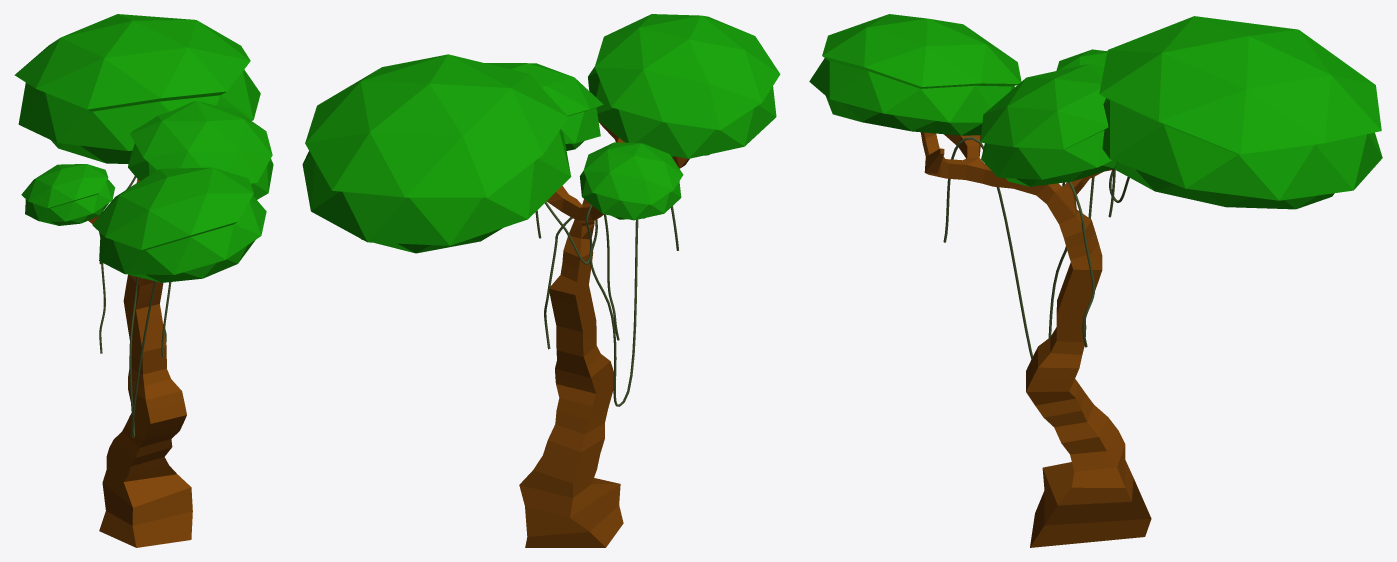
Rendered from big_tree_1-1 1.fbx.
3 views of the same model, side by side, from view 1: azimuth 30°, elevation 25°; view 2: azimuth 150°, elevation 25°; view 3: azimuth 270°, elevation 25° (orthographic). The views are drawn at different scales.
Visible parts, largest first — view 1: BezierCurve; view 2: BezierCurve; view 3: BezierCurve.
Boxes of the visible parts, x1,y1,x2,y2 form: BezierCurve: (14, 14, 273, 547); BezierCurve: (302, 14, 780, 547); BezierCurve: (809, 14, 1382, 547).
Bounding box in the file's own units: 1149 × 1815 × 1776.
1 material, 1 textured.
